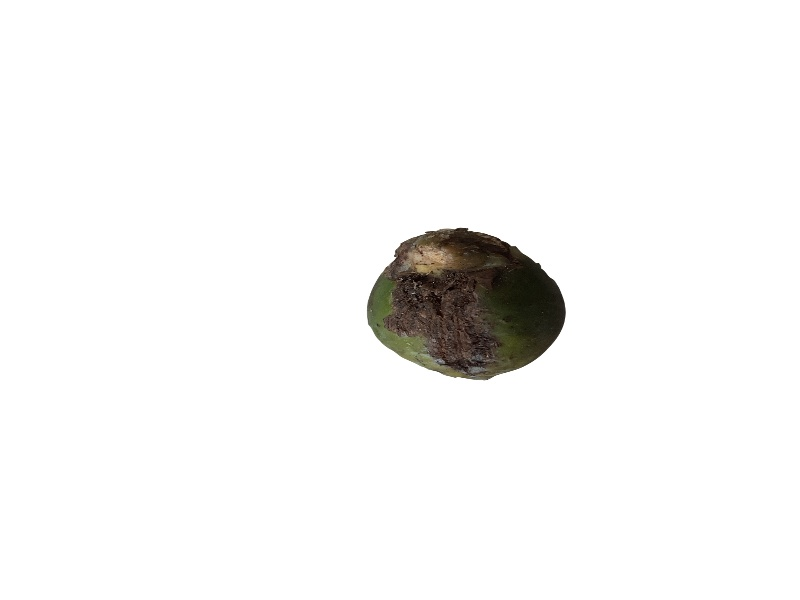arecanut: (363, 224, 571, 389)
